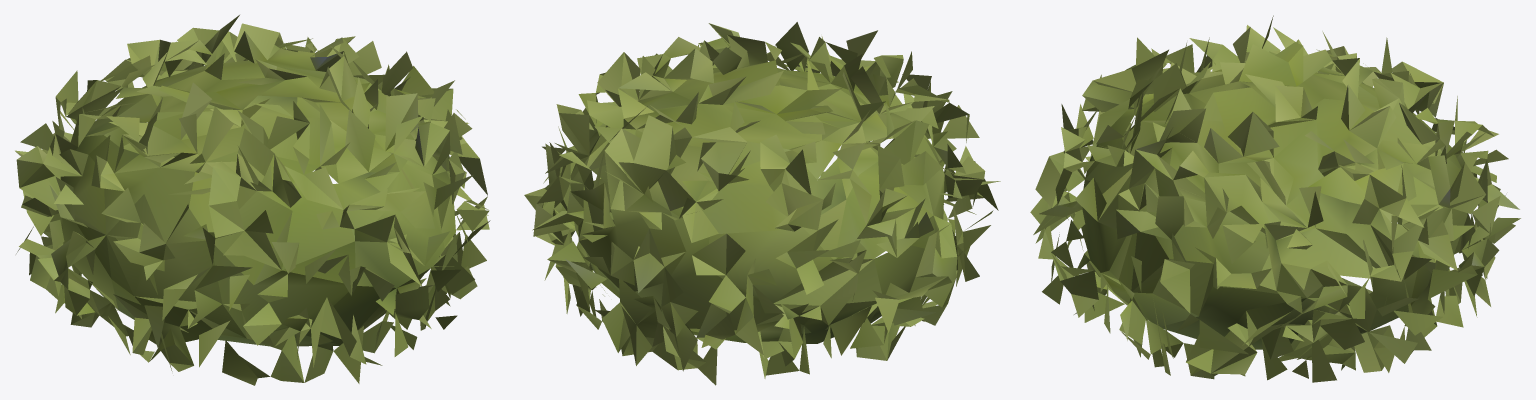
The model's file is hedge_bush.glb.
3 views of the same model, side by side, from view 1: azimuth 30°, elevation 25°; view 2: azimuth 150°, elevation 25°; view 3: azimuth 270°, elevation 25° (orthographic). The views are drawn at different scales.
Parts seen in each view (by area): view 1: geometry_0; view 2: geometry_0; view 3: geometry_0.
Part boxes in pixels (x1,y1,x2,y2): geometry_0: (15, 15, 490, 385); geometry_0: (524, 22, 1000, 385); geometry_0: (1030, 15, 1520, 382).
Bounding box in the file's own units: 2.06 × 1.2 × 2.1.
